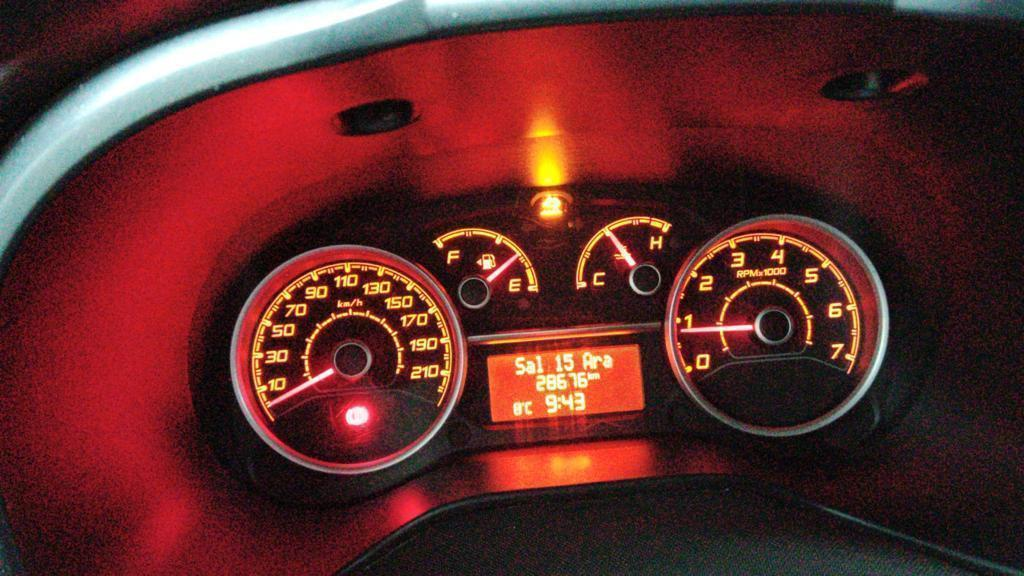1: (554, 352, 563, 372)
2: (535, 375, 545, 391)
3: (574, 391, 586, 411)
4: (561, 394, 573, 411)
5: (563, 352, 574, 370)
6: (556, 373, 566, 390), (577, 371, 587, 388)
7: (567, 372, 577, 387)
8: (546, 373, 556, 389), (513, 401, 522, 416)
9: (544, 394, 557, 413)
X: (515, 355, 525, 375), (583, 350, 593, 369), (536, 354, 544, 373), (603, 353, 613, 368), (524, 401, 534, 415), (526, 358, 535, 373), (593, 355, 601, 369), (593, 372, 600, 379), (557, 396, 560, 409), (588, 371, 592, 380)
odometer: (485, 342, 650, 426)
